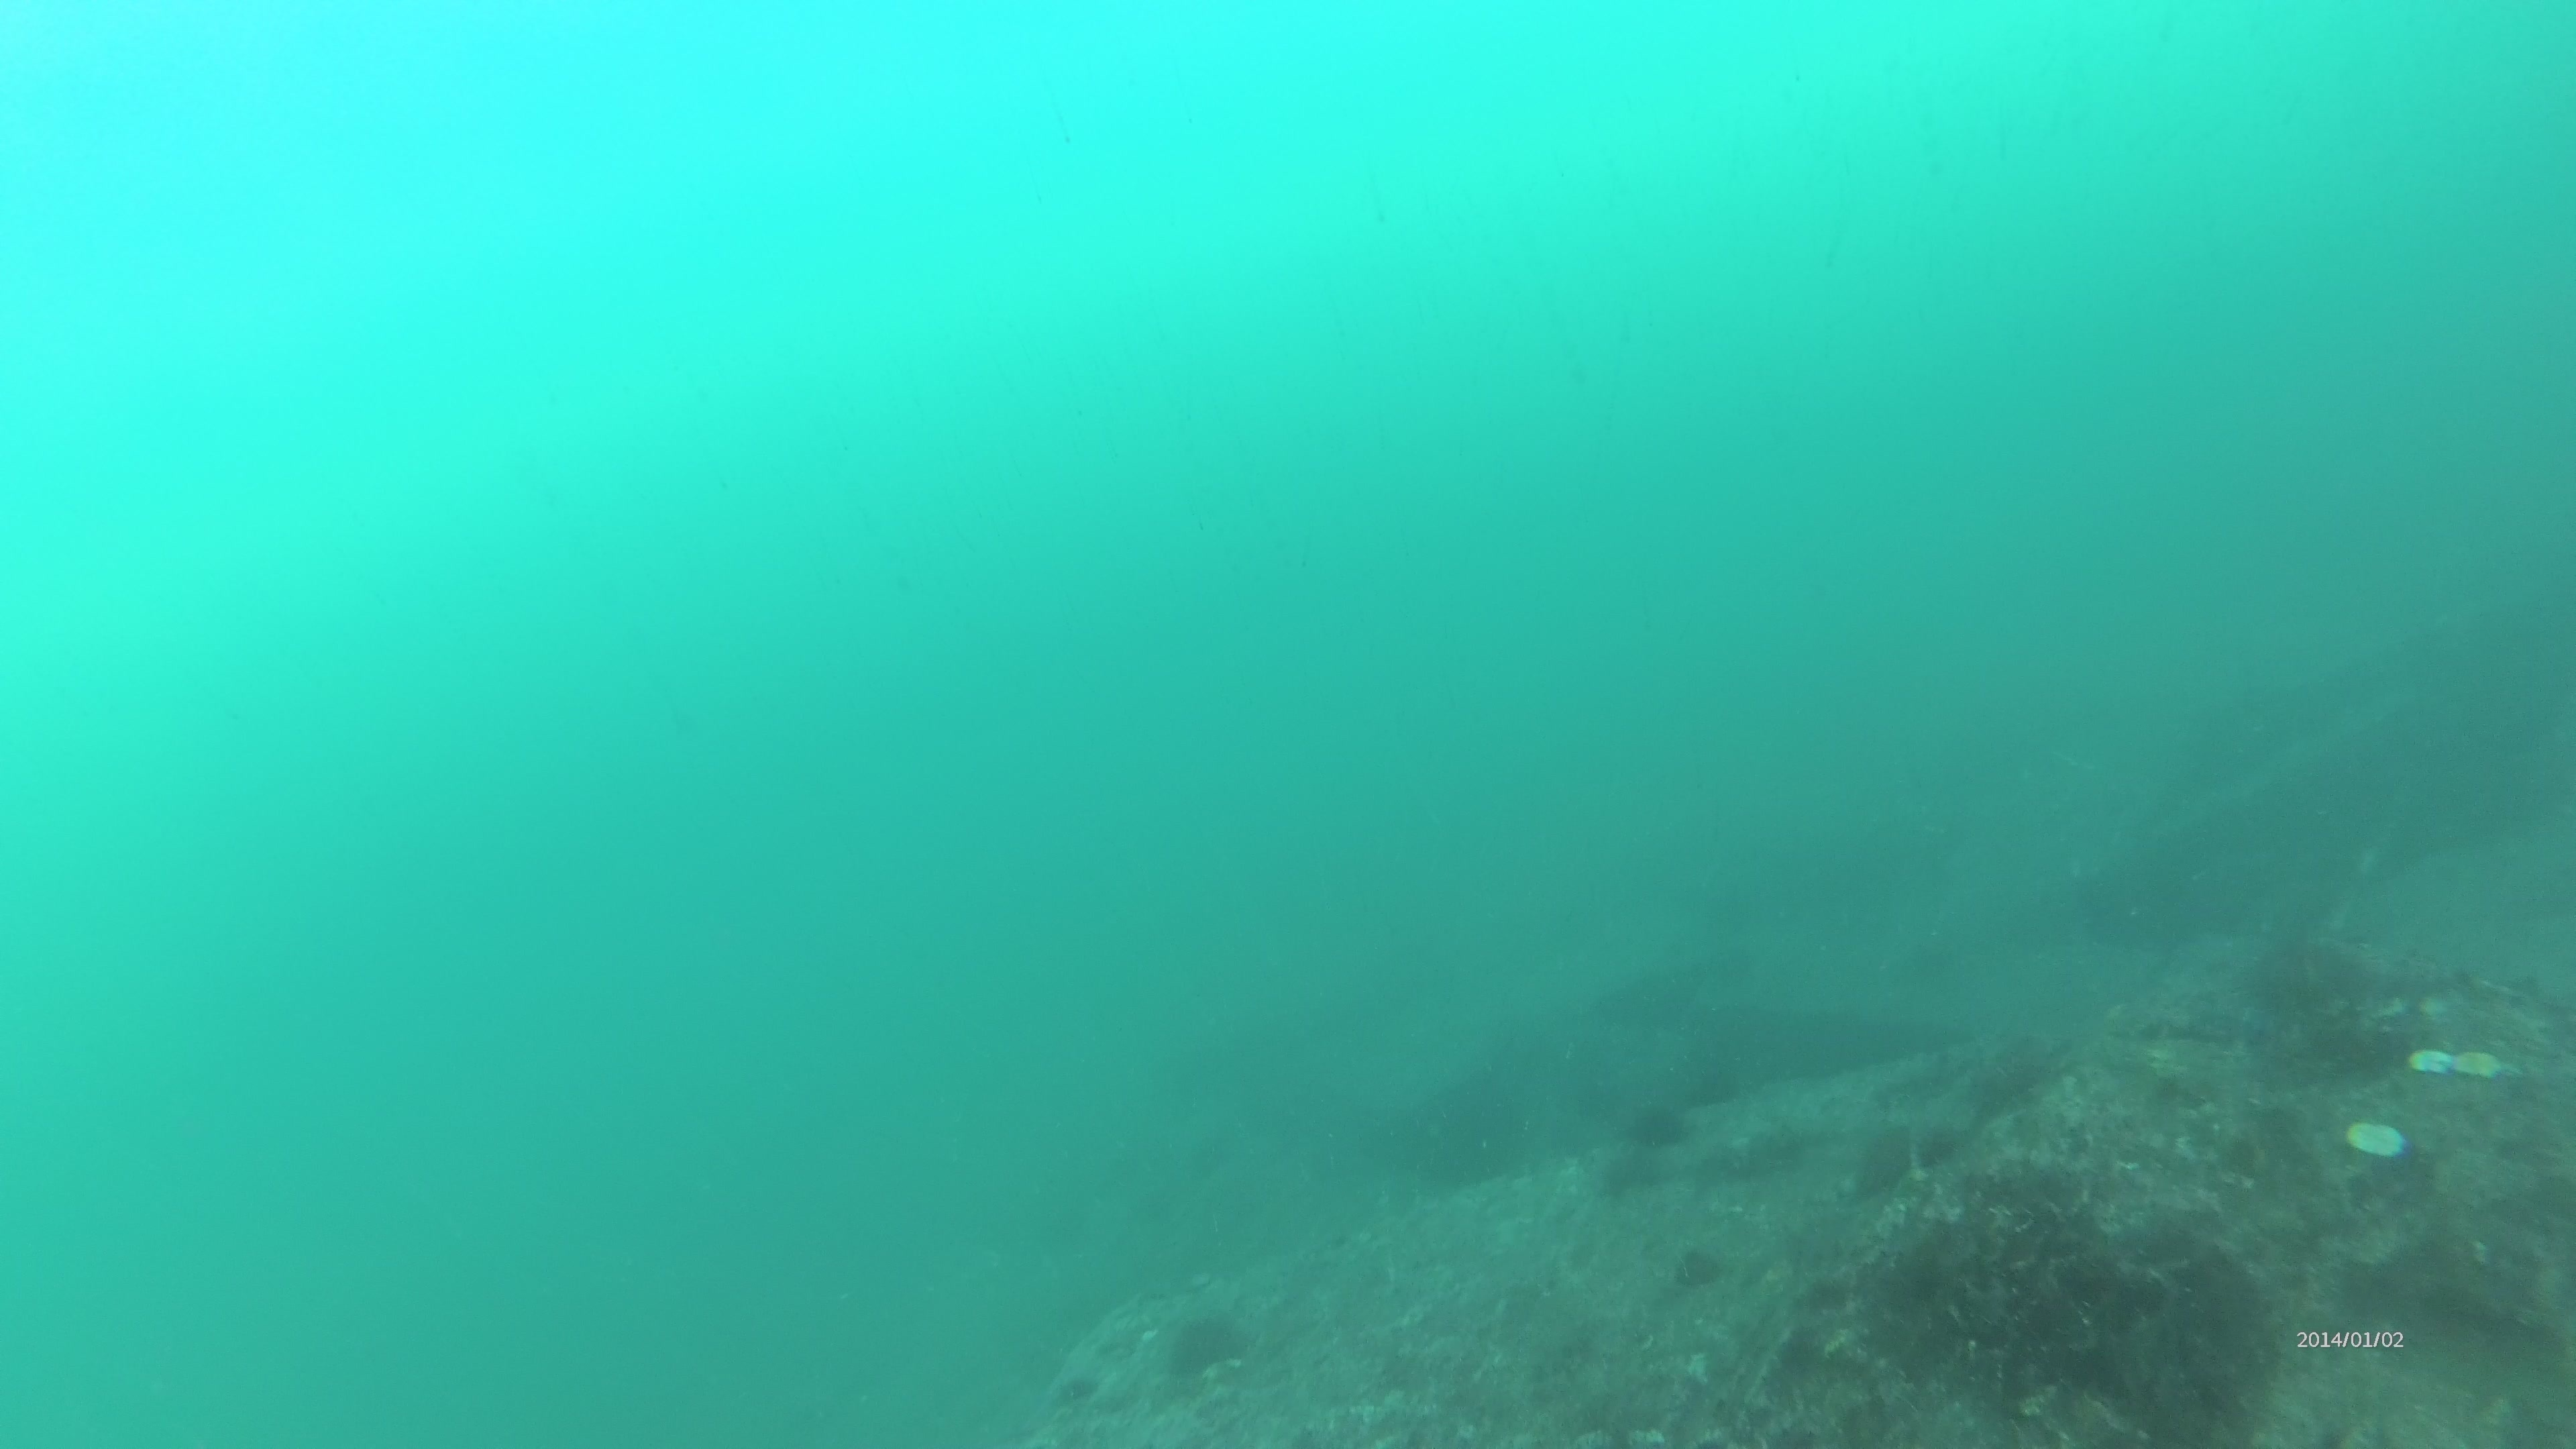echinus: (1157, 1302, 1254, 1385), (1619, 1093, 1695, 1155)
